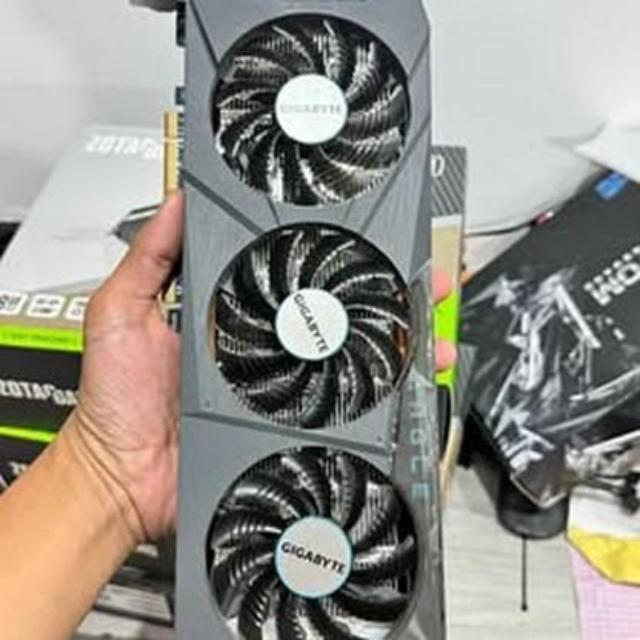GPU: (136, 0, 459, 640)
